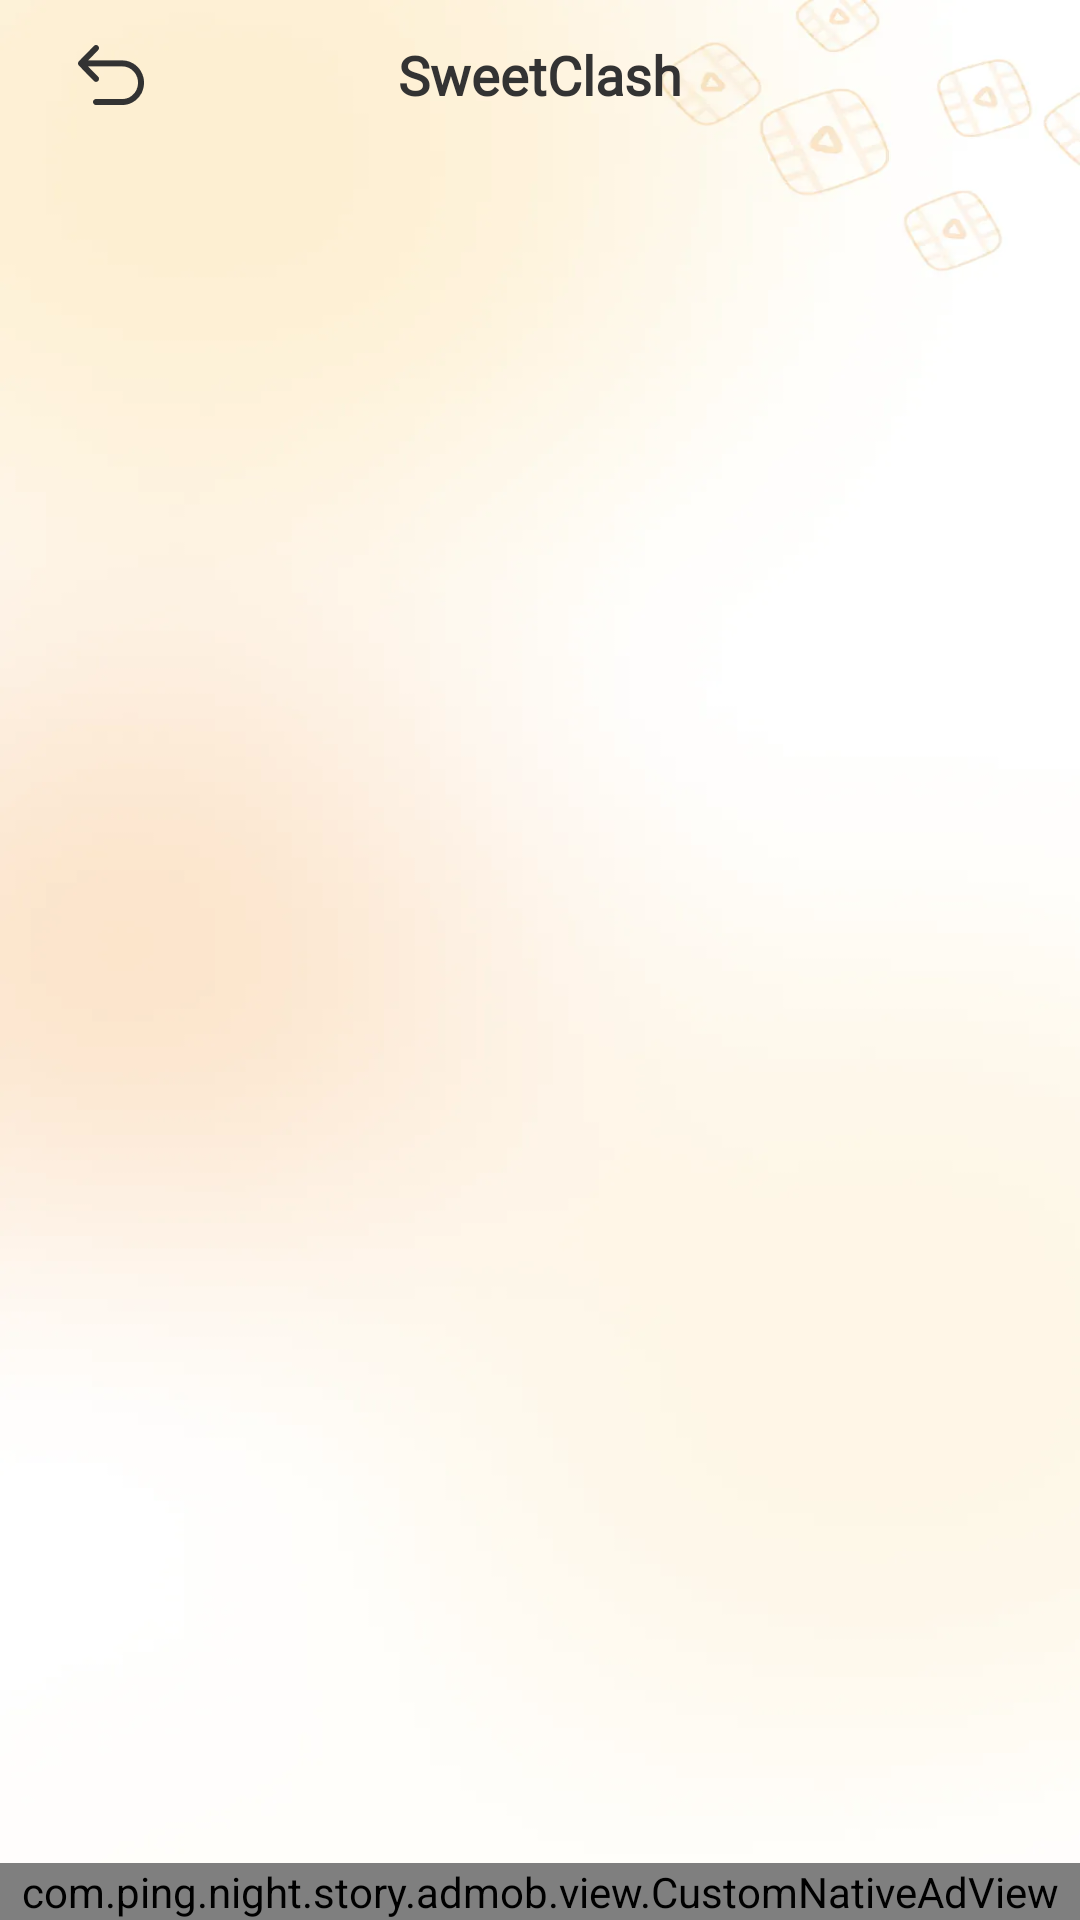

Where icons sit on this 1080 × 1920 app screen, as (x1, y1, x2, y2):
page back: (78, 45, 144, 105)
